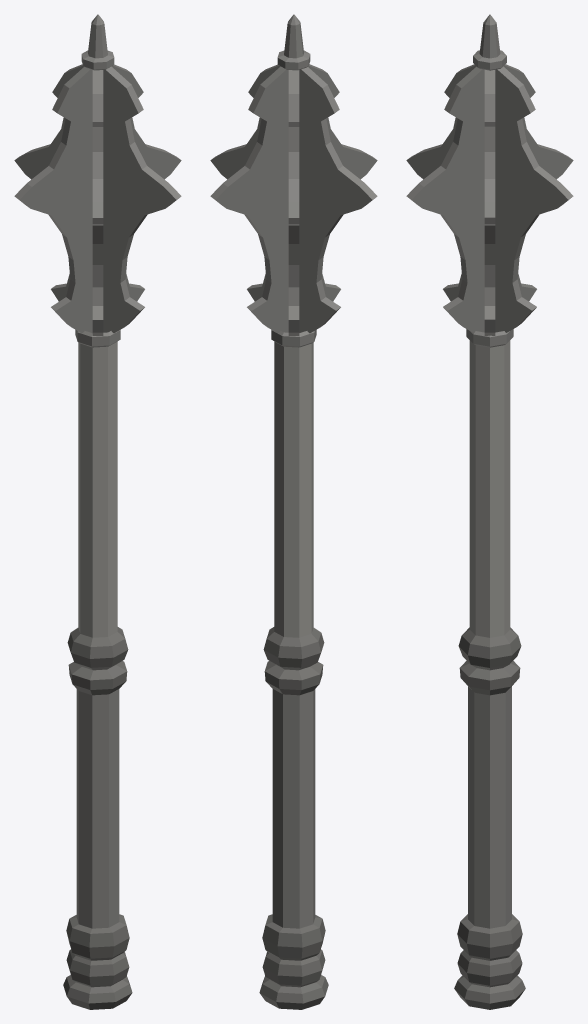
Rendered from SM_pwe_medieval_mace_06.fbx.
3 views of the same model, side by side, from view 1: azimuth 30°, elevation 25°; view 2: azimuth 150°, elevation 25°; view 3: azimuth 270°, elevation 25° (orthographic).
Parts seen in each view (by area): view 1: SM_pwe_medieval_mace_06; view 2: SM_pwe_medieval_mace_06; view 3: SM_pwe_medieval_mace_06.
Part boxes in pixels (bbox=[...]): SM_pwe_medieval_mace_06: bbox=[14, 14, 181, 1009]; SM_pwe_medieval_mace_06: bbox=[210, 14, 377, 1009]; SM_pwe_medieval_mace_06: bbox=[406, 14, 573, 1009].
Size of the model in its own units: 16.08 by 93.88 by 14.37.
